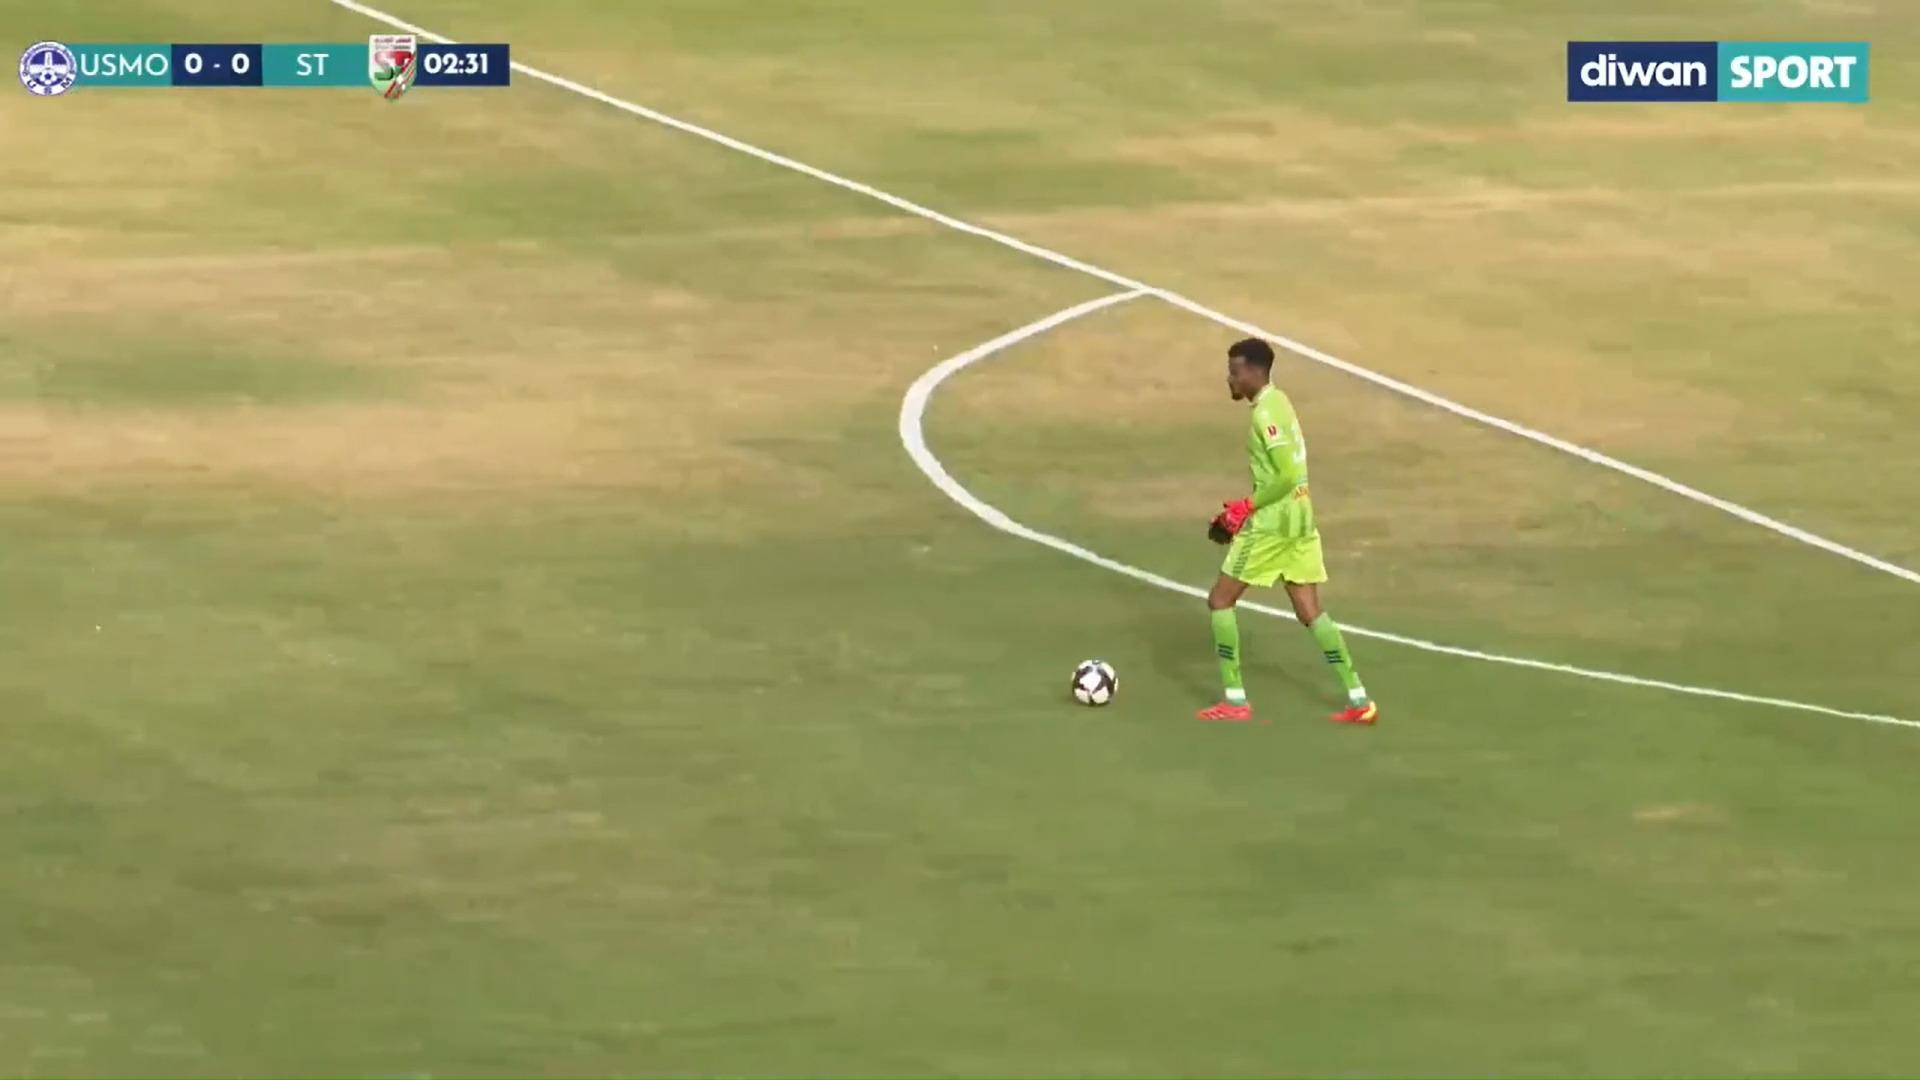ball: (1046, 630, 1141, 728)
goalkeeper: (1149, 284, 1400, 760)
